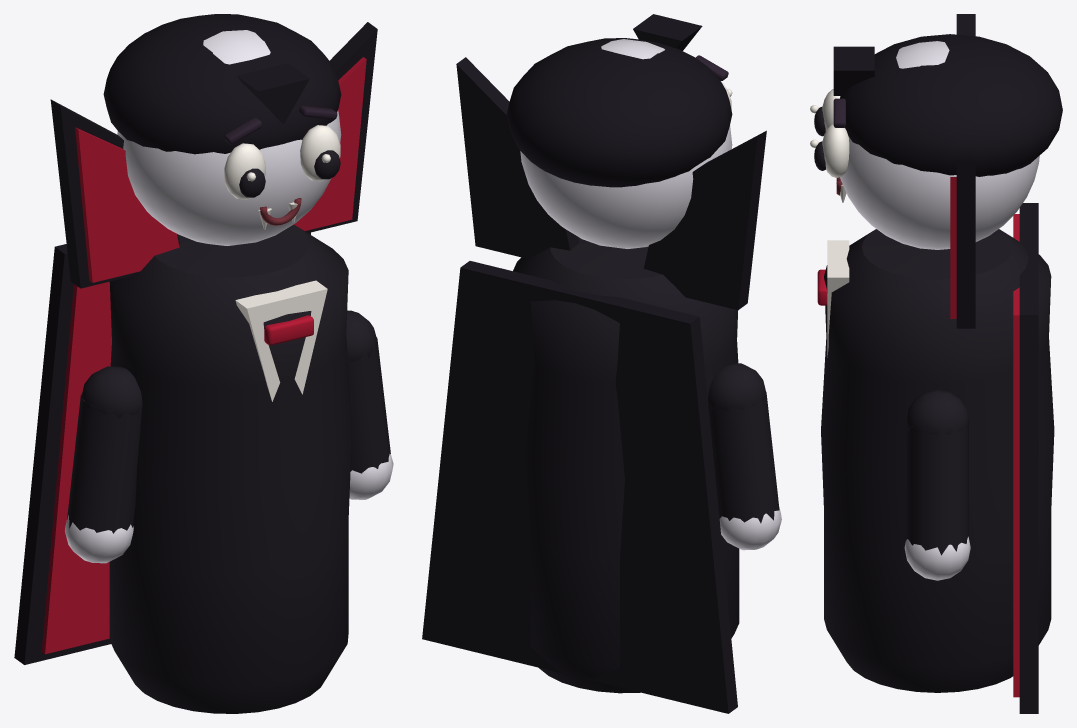
The model's file is Char_Vampire.fbx.
3 views of the same model, side by side, from view 1: azimuth 30°, elevation 25°; view 2: azimuth 150°, elevation 25°; view 3: azimuth 270°, elevation 25° (orthographic). The views are drawn at different scales.
Visible parts, largest first — view 1: Body, Head, Cape; view 2: Cape, Body, Head; view 3: Body, Head, Cape.
Boxes of the visible parts, x1,y1,x2,y2 form: Body: (65,224,393,713); Head: (103,14,341,245); Cape: (14,22,377,664); Cape: (422,57,766,713); Body: (513,237,781,693); Head: (506,14,732,248); Body: (817,229,1054,692); Head: (810,34,1062,249); Cape: (950,14,1038,713).
Size of the model in its own units: 1.12 by 2.11 by 0.8014.
